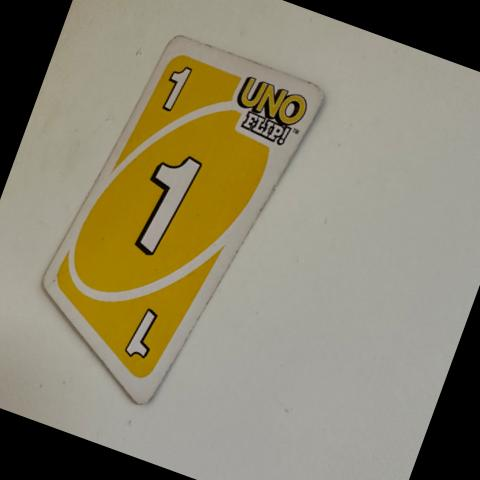5_red: (121, 147, 209, 259), (110, 300, 167, 364), (167, 60, 200, 116)
